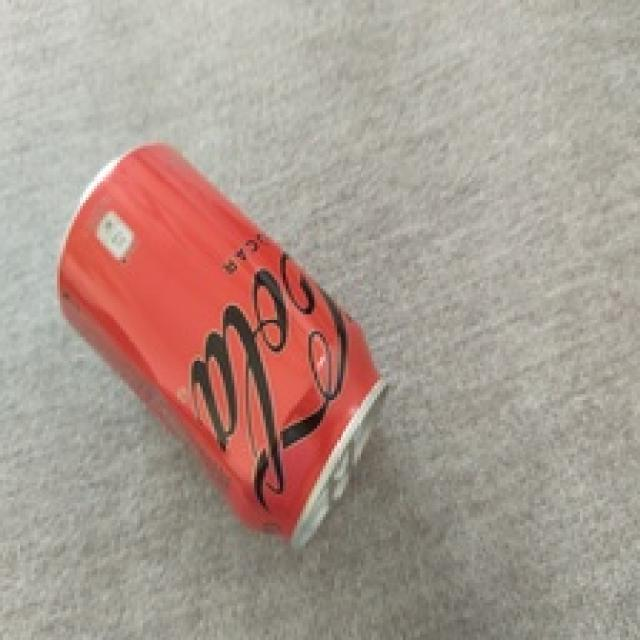recyclable: (54, 140, 393, 550)
